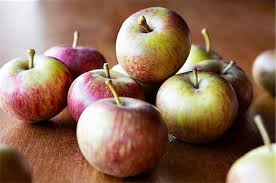apple: (78, 102, 170, 173), (117, 8, 194, 83), (158, 74, 238, 145), (3, 54, 66, 119), (71, 67, 143, 120), (47, 42, 104, 81)
